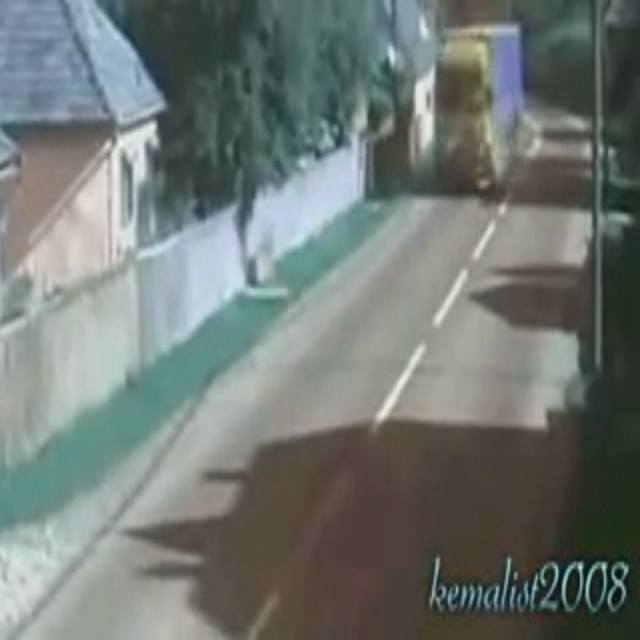acc: (412, 109, 528, 210)
